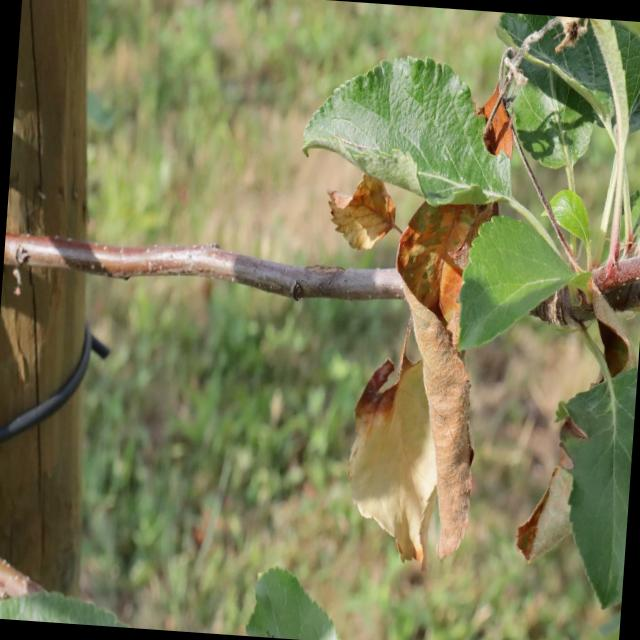-FireBlight-: (316, 169, 500, 593)
